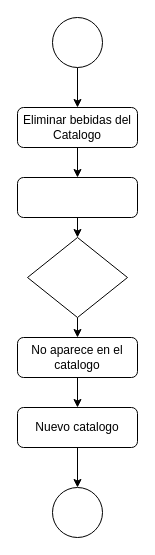
This 155x555 diagram has some shape labels left out. Each missing label, with the centre of its shape:
"Elegir la bebida" belongs at (77,197).
"Eliminar la bebida" belongs at (77,277).
